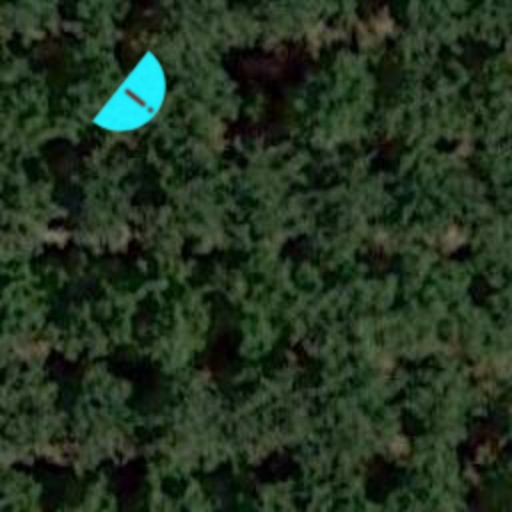semicircle: (74, 36, 202, 164)
